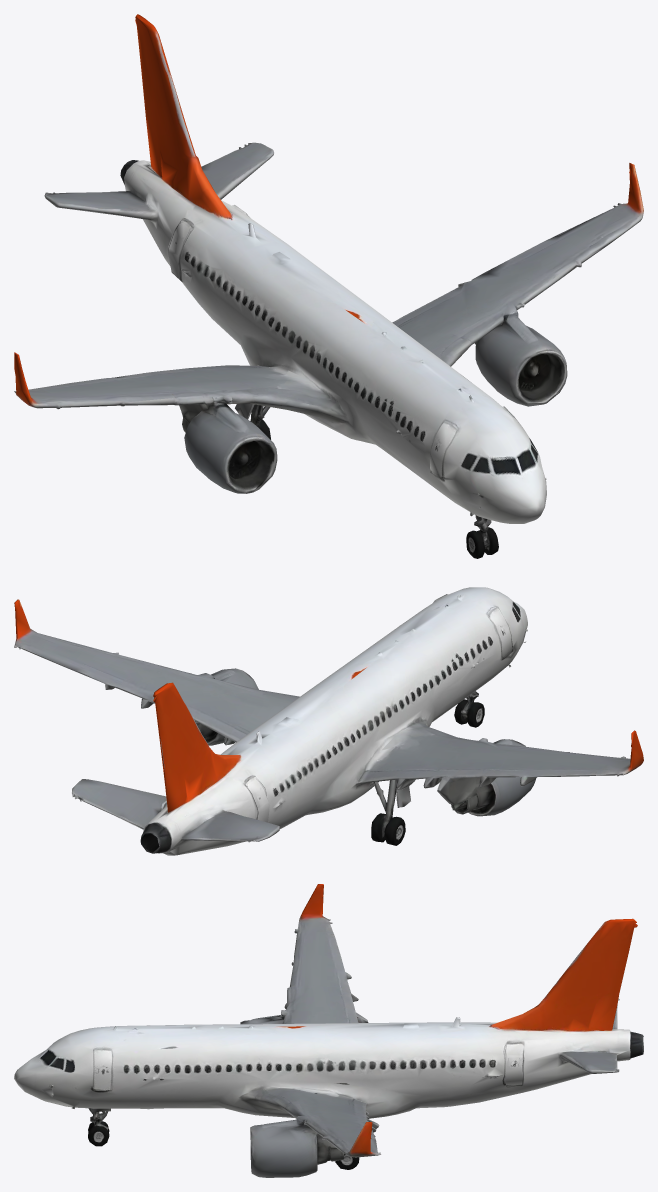
The model's file is airliner.glb.
3 views of the same model, one above another, from view 1: azimuth 30°, elevation 25°; view 2: azimuth 150°, elevation 25°; view 3: azimuth 270°, elevation 25° (orthographic). The views are drawn at different scales.
Visible parts, largest first — view 1: tripo_node_f38ace69-07d1-44e3-8284-9a49f96e457a; view 2: tripo_node_f38ace69-07d1-44e3-8284-9a49f96e457a; view 3: tripo_node_f38ace69-07d1-44e3-8284-9a49f96e457a.
Part boxes in pixels (x1,y1,x2,y2): tripo_node_f38ace69-07d1-44e3-8284-9a49f96e457a: (14,14,643,558); tripo_node_f38ace69-07d1-44e3-8284-9a49f96e457a: (14,587,643,855); tripo_node_f38ace69-07d1-44e3-8284-9a49f96e457a: (14,884,643,1177).
Size of the model in its own units: 0.9244 by 0.3923 by 0.9998.
1 material, 1 textured.
